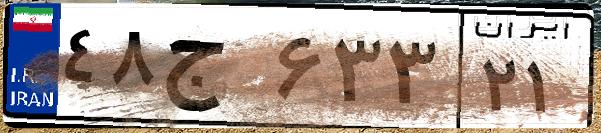1: (525, 38, 570, 115)
2: (475, 38, 525, 113)
3: (385, 28, 445, 110), (330, 28, 385, 110)
4: (57, 26, 110, 100)
6: (270, 28, 330, 110)
8: (110, 28, 158, 98)
ج: (158, 20, 270, 120)
